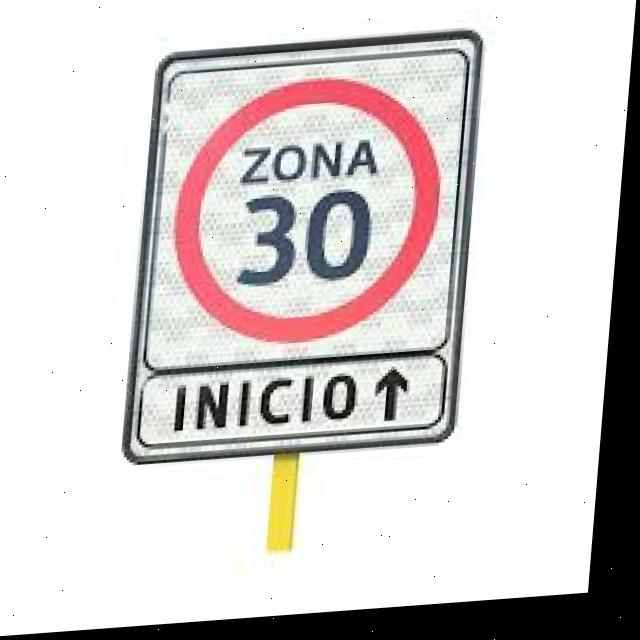Speed limit 30: (169, 77, 456, 358)
